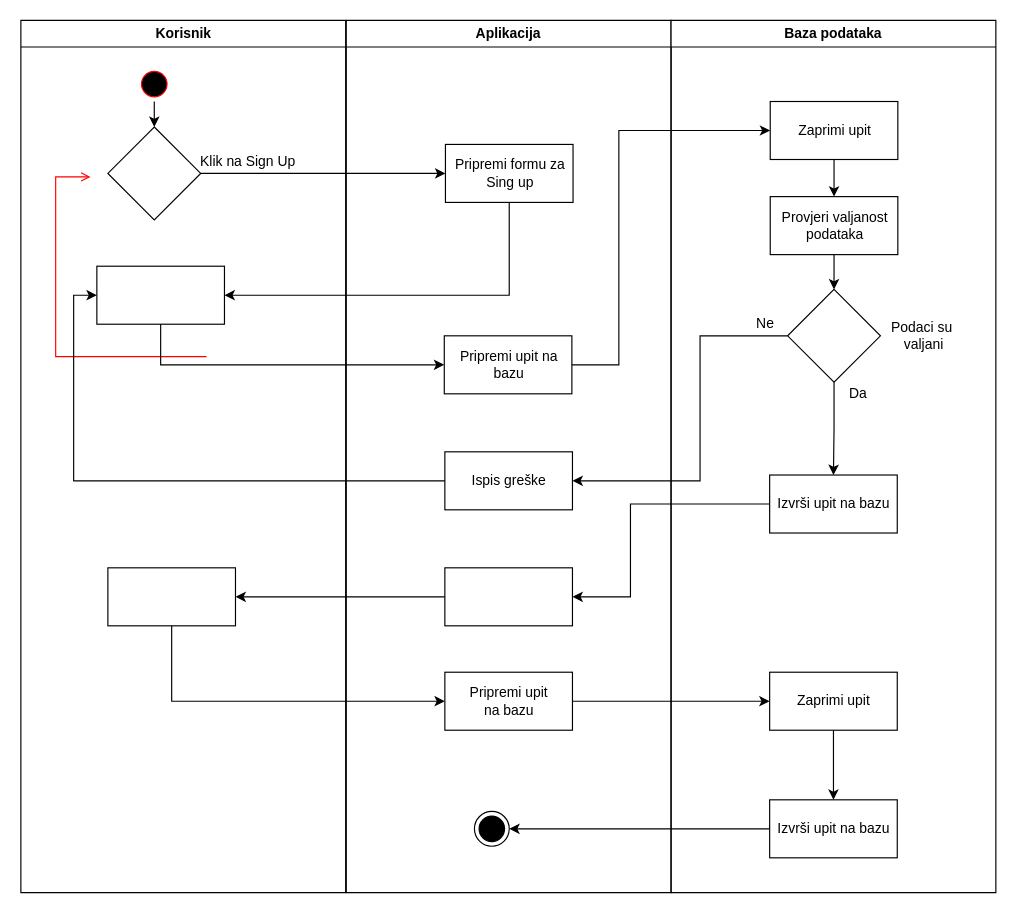
Some shapes in this 1016 by 913 pixel diagram are drawn without their labels. The shapes that lost their labels are listed below. From the top down, each one's centre as x and y in pixels, then its label:
[160,294]: Ispuniti formu za Sing Up
[171,596]: Ispuni formu za odabir favorita
[508,596]: Pripremi formu za Google Sign in
